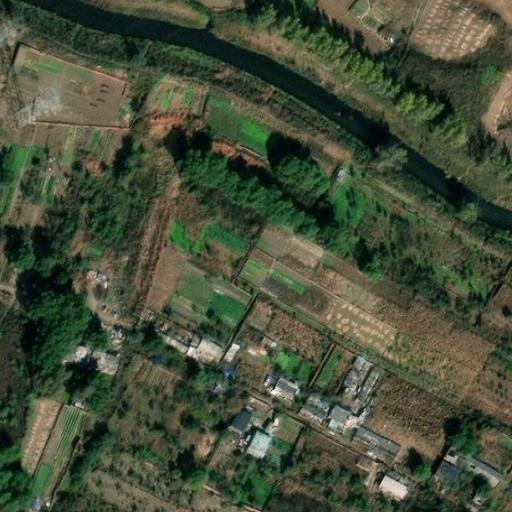building: (449, 440, 506, 485), (146, 314, 195, 353), (355, 427, 399, 460), (185, 333, 223, 368), (52, 335, 87, 368), (375, 474, 410, 505), (301, 392, 333, 424), (85, 348, 118, 379), (430, 455, 463, 486), (268, 375, 300, 405), (243, 430, 273, 461), (229, 407, 254, 435)
